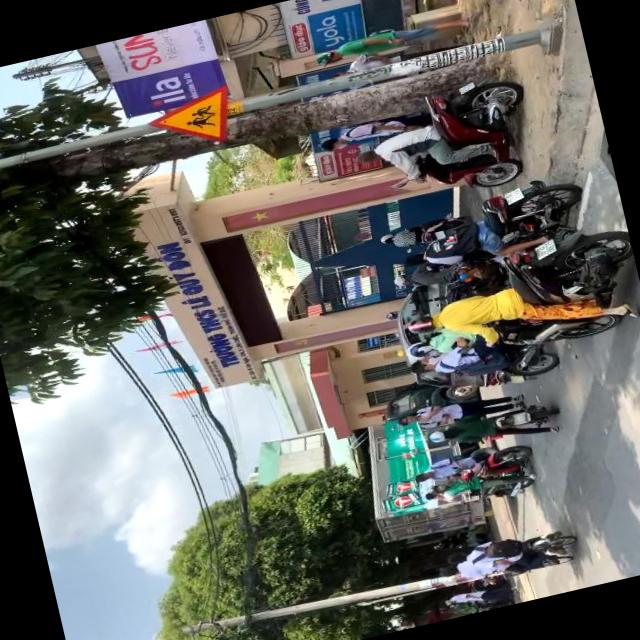W-225: (144, 86, 239, 156)
